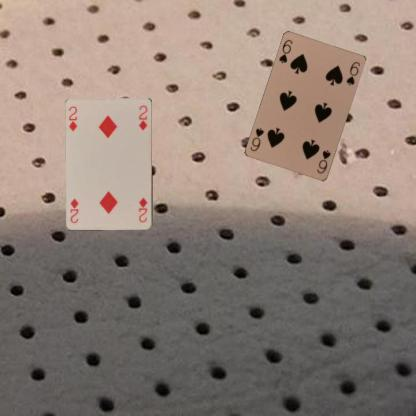2d: (136, 195, 149, 224), (66, 104, 78, 132)
6s: (314, 147, 332, 175), (276, 37, 294, 65)
